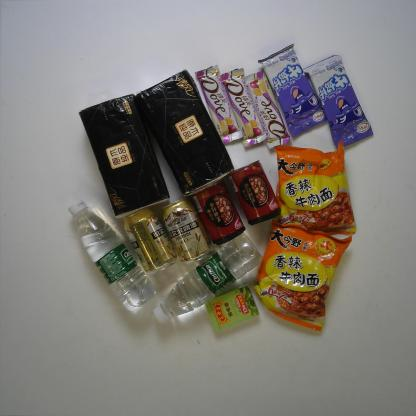Alcohol: (123, 205, 177, 275), (163, 197, 209, 263)
Candy: (302, 53, 376, 150), (258, 43, 327, 140), (203, 284, 260, 334)
Canned Food: (229, 158, 282, 228), (192, 180, 246, 246)
Chocolate: (241, 68, 292, 152), (218, 65, 268, 150), (194, 63, 243, 147)
Drink: (65, 197, 159, 313), (150, 232, 264, 323)
Instant Noodles: (254, 218, 354, 334), (273, 139, 359, 238)
Tissue: (136, 68, 236, 198), (77, 92, 171, 222)
